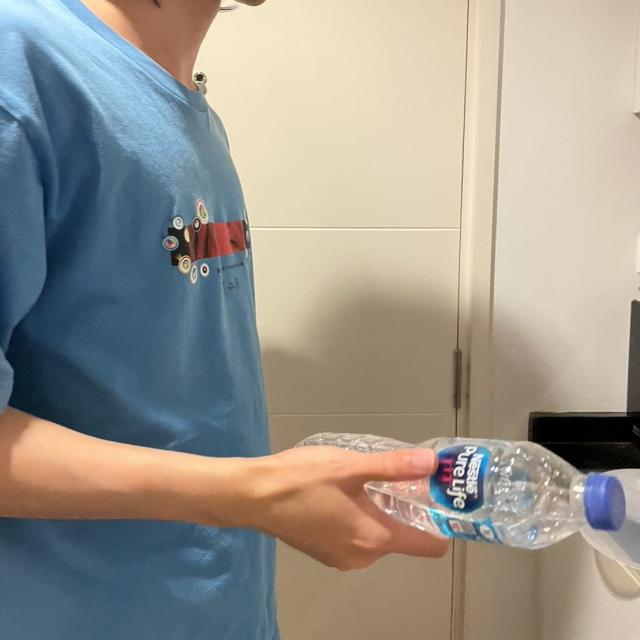bottle: (290, 431, 627, 551)
